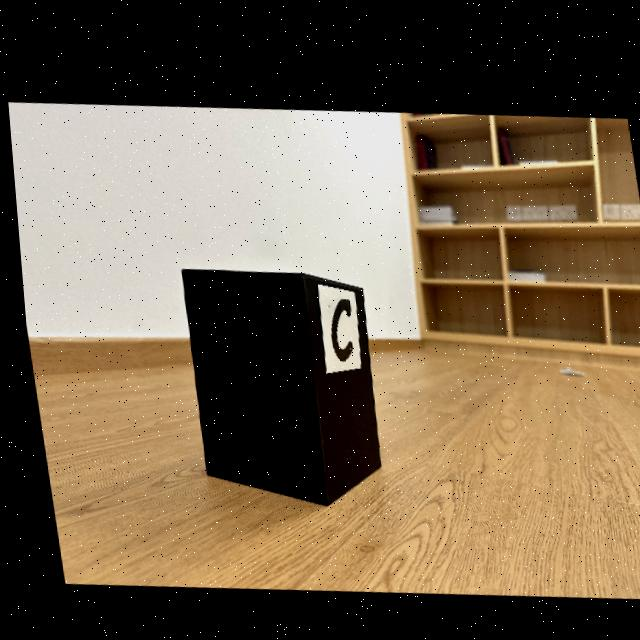C: (326, 293, 348, 353)
